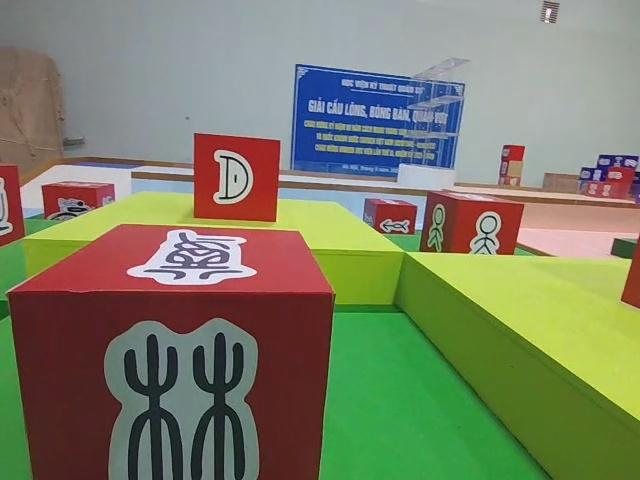R1: (42, 180, 114, 226)
R2 Fake: (4, 223, 334, 480)
R2 Real: (194, 132, 281, 221), (420, 193, 525, 260), (363, 194, 417, 239)
